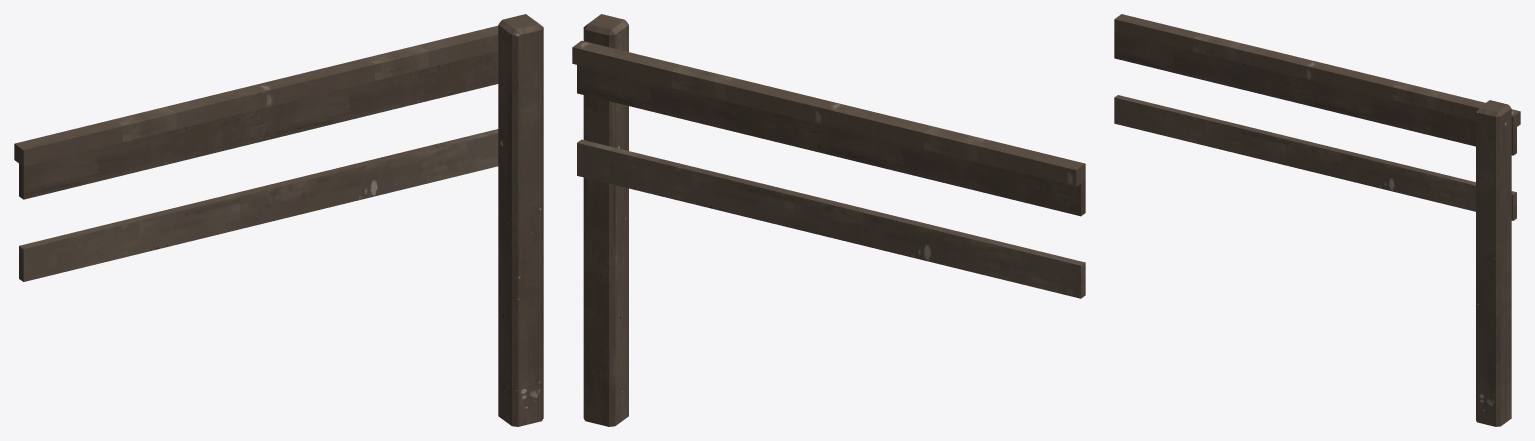
3 renders of one model, left to right at view 1: azimuth 30°, elevation 25°; view 2: azimuth 150°, elevation 25°; view 3: azimuth 330°, elevation 25°, orthographic. The views are drawn at different scales.
Parts seen in each view (by area): view 1: body0_model0_lod0_mesh0; view 2: body0_model0_lod0_mesh0; view 3: body0_model0_lod0_mesh0.
Boxes of the visible parts, left/top/right/bottom form: body0_model0_lod0_mesh0: left=14, top=14, right=543, bottom=426; body0_model0_lod0_mesh0: left=572, top=14, right=1085, bottom=426; body0_model0_lod0_mesh0: left=1114, top=14, right=1520, bottom=426.
Bounding box in the file's own units: 64 × 48 × 6.
Materials: 1 (1 with a texture image).
